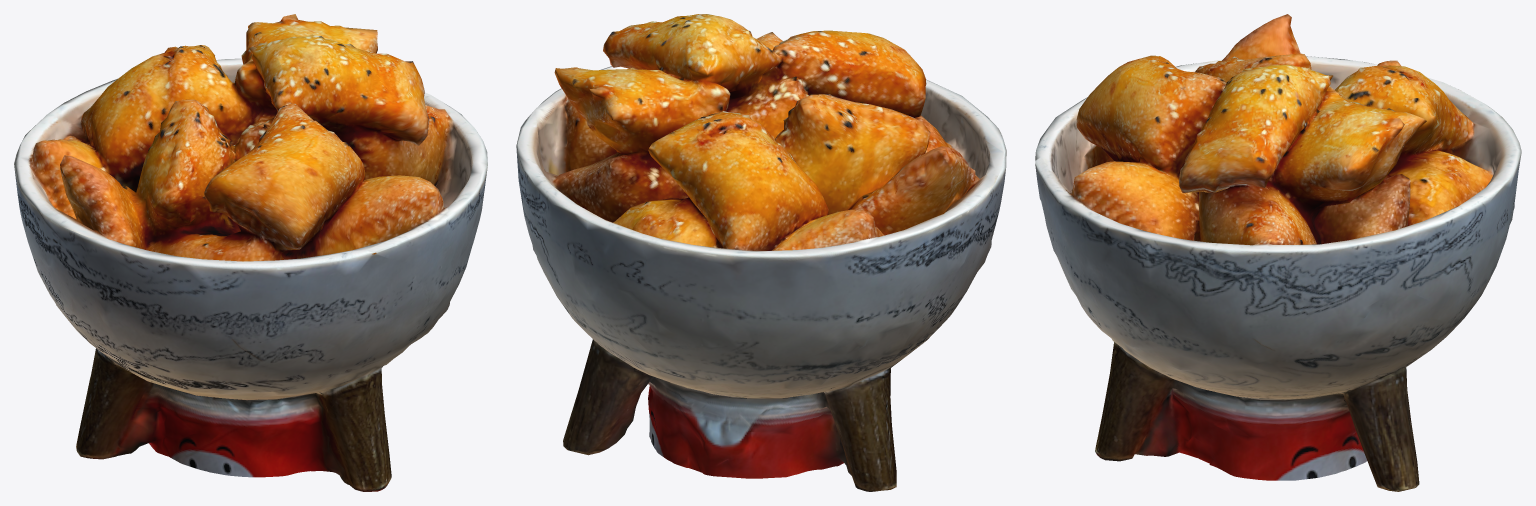
File: 3DModel_LowPoly.obj
3 views of the same model, side by side, from view 1: azimuth 30°, elevation 25°; view 2: azimuth 150°, elevation 25°; view 3: azimuth 270°, elevation 25° (orthographic). The views are drawn at different scales.
Parts seen in each view (by area): view 1: 3DModel_LowPoly; view 2: 3DModel_LowPoly; view 3: 3DModel_LowPoly.
Boxes of the visible parts, x1,y1,x2,y2 form: 3DModel_LowPoly: (14, 14, 487, 491); 3DModel_LowPoly: (516, 14, 1006, 491); 3DModel_LowPoly: (1035, 14, 1521, 491).
Bounding box in the file's own units: 10.37 × 9.29 × 10.43.
Materials: 1 (1 with a texture image).
